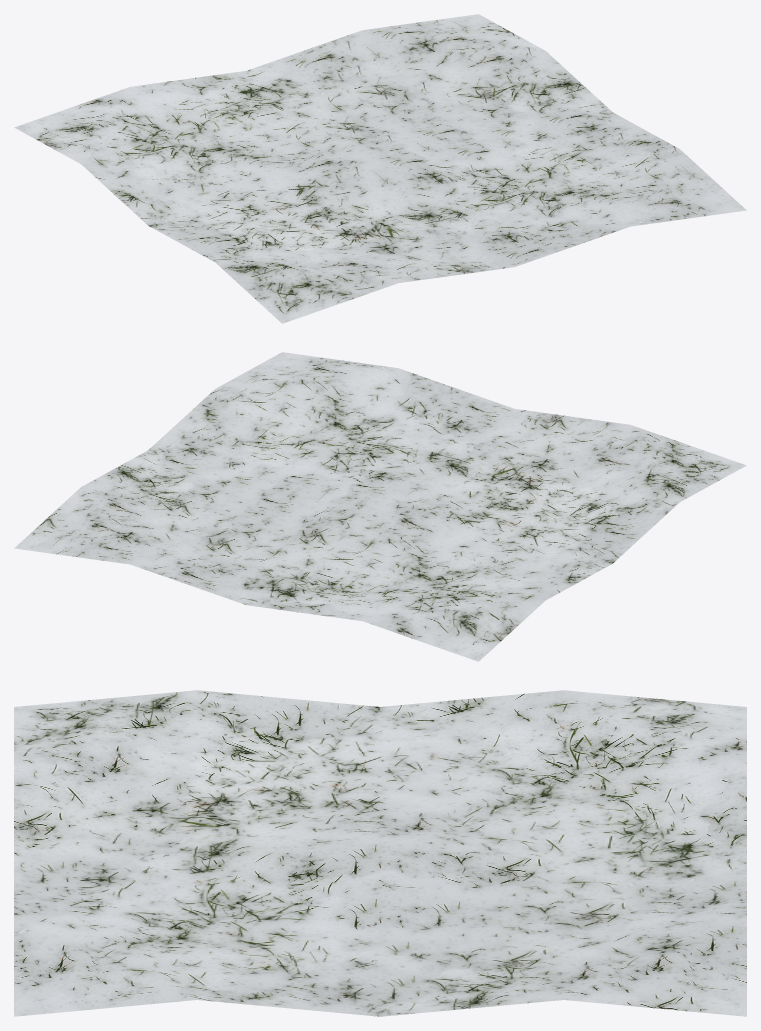
The model's file is SnowCenter.fbx.
3 views of the same model, one above another, from view 1: azimuth 30°, elevation 25°; view 2: azimuth 150°, elevation 25°; view 3: azimuth 270°, elevation 25° (orthographic). The views are drawn at different scales.
Parts seen in each view (by area): view 1: Plane.006; view 2: Plane.006; view 3: Plane.006.
Boxes of the visible parts, left/top/right/bottom form: Plane.006: left=14, top=14, right=746, bottom=323; Plane.006: left=14, top=352, right=746, bottom=661; Plane.006: left=14, top=690, right=746, bottom=1016.
Bounding box in the file's own units: 200 × 5.05 × 200.
